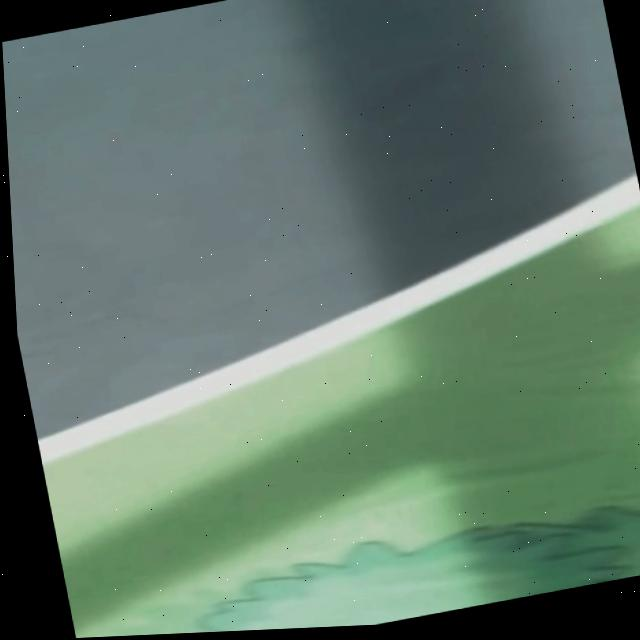right: (37, 173, 640, 463)
